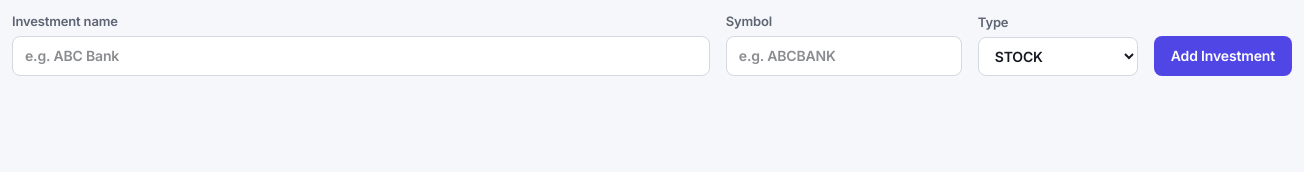
Test: AddInvestmentForm › valid submit shows the returned holdingId
The image size is (1304, 172).
Type "ABC Bank" into the field labelled "Investment name" at x=361, y=56, box top-left (12, 36), bottom-right (710, 76)
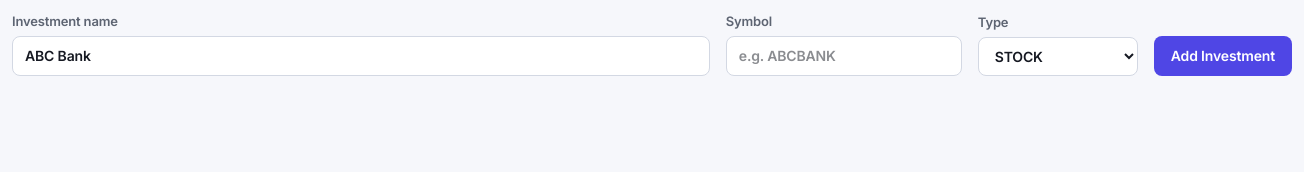
Type "ABCBANK" into the field labelled "Symbol" at x=844, y=56, box top-left (726, 36), bottom-right (962, 76)
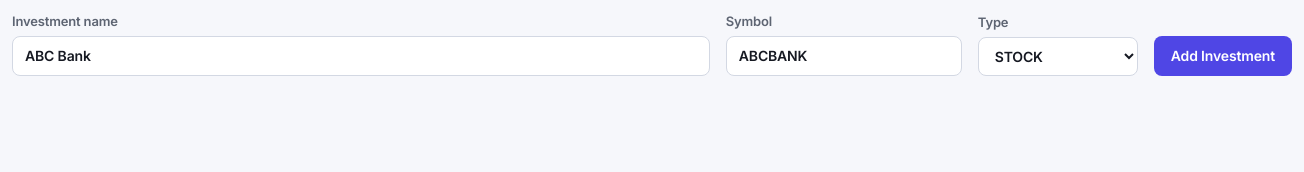
Click the button "Add Investment" at x=1223, y=56, box top-left (1154, 36), bottom-right (1292, 76)
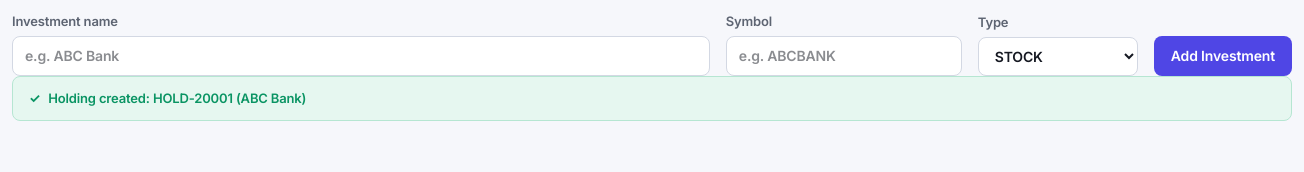
Expected: the text "✓ Holding created: HOLD-20001 (ABC Bank)" is shown, top-left (12, 76), bottom-right (1292, 121)
